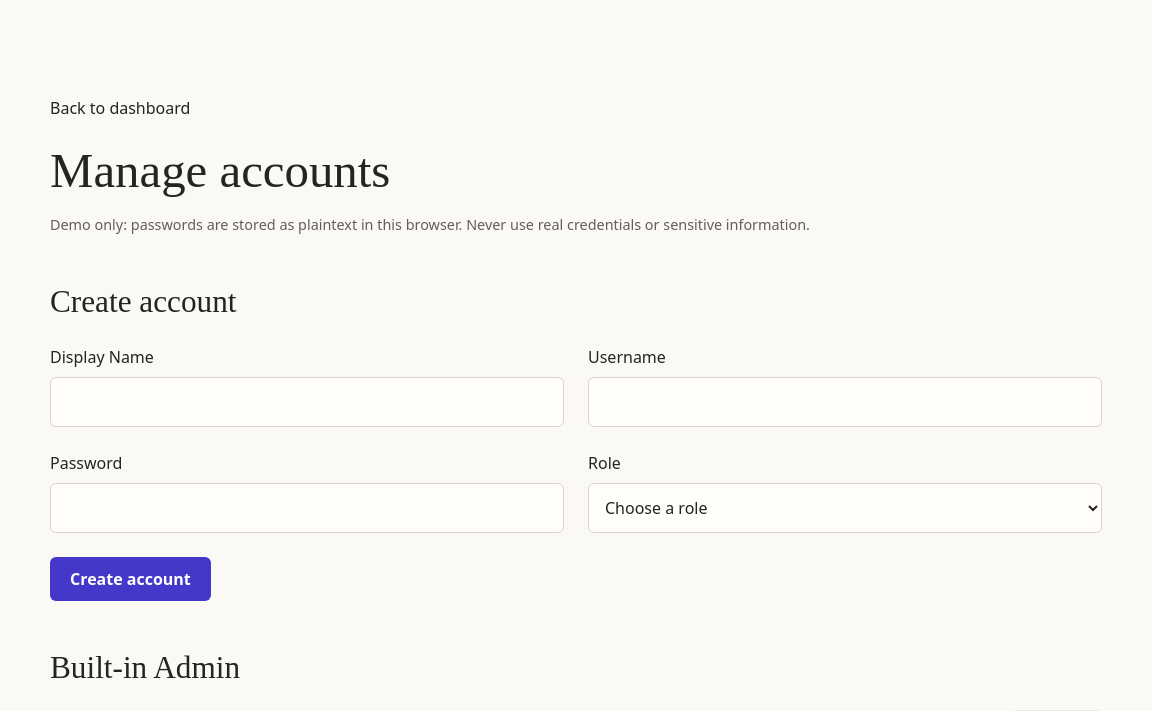
Test case: UserManagement › creates admin with exact values UUID/time, re-reading before and after saving
Type "New account" into the field labelled "Display Name".
click(307, 402); type("New account")  # box x1=50 y1=377 x2=564 y2=427
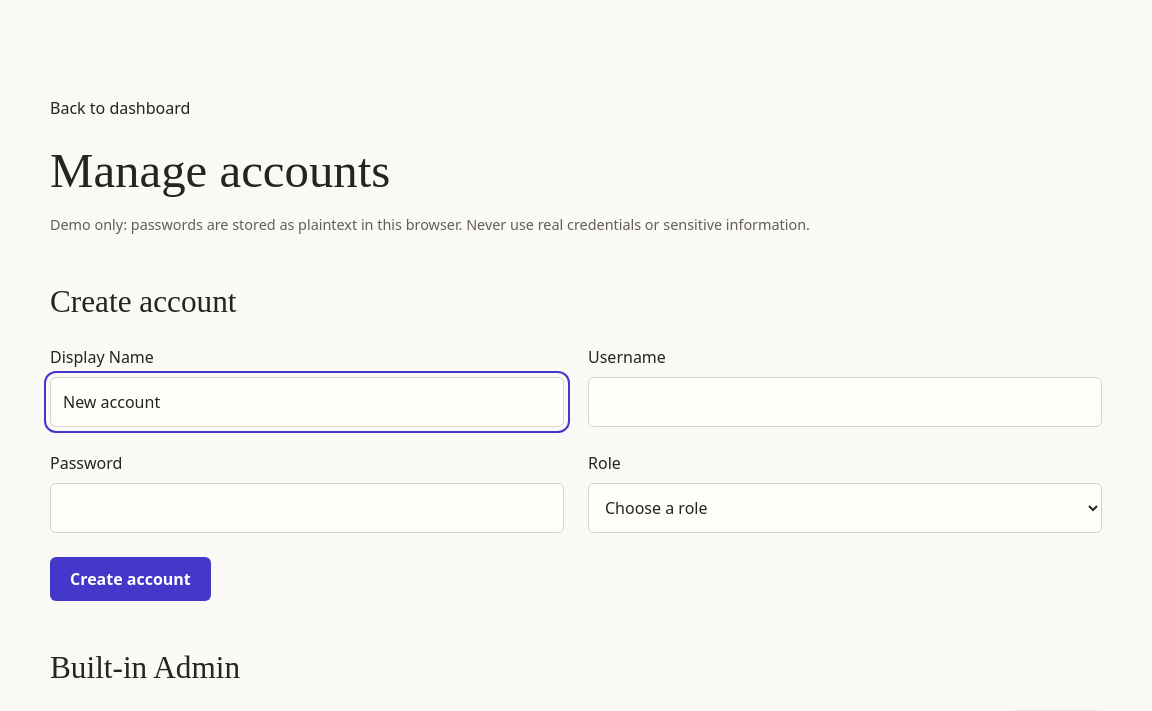
Type "new" into the field labelled "Username".
click(845, 402); type("new")  # box x1=588 y1=377 x2=1102 y2=427
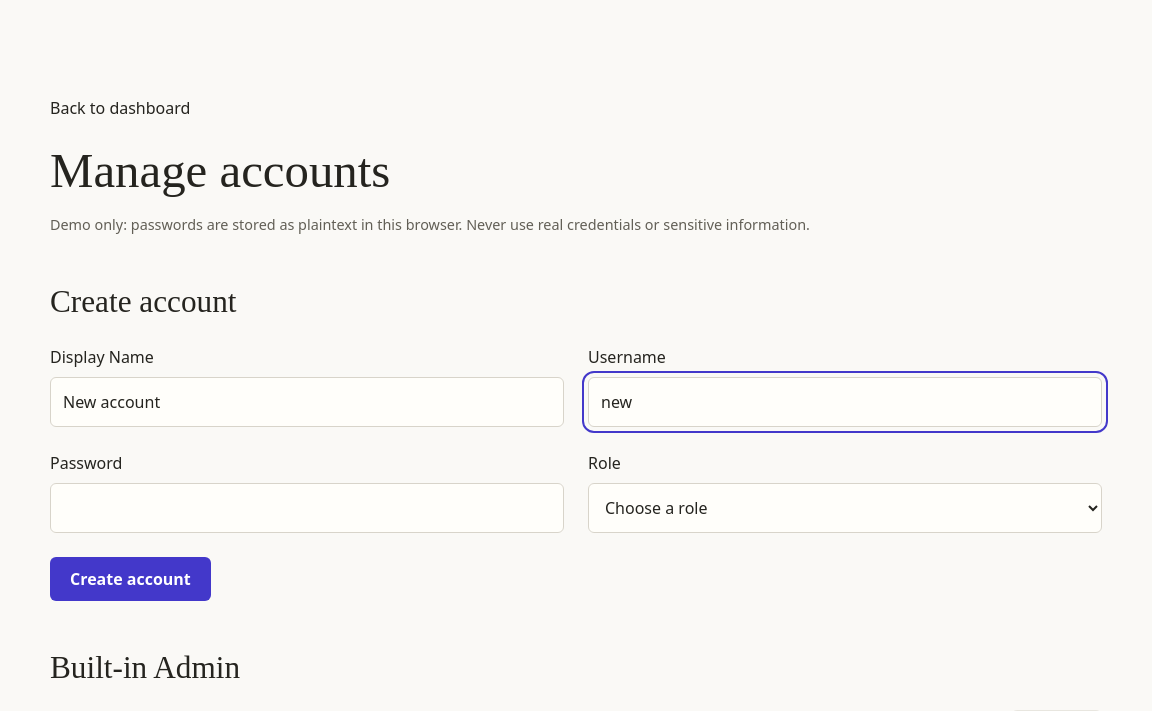
Type "demo" into the password field labelled "Password".
click(307, 508); type("demo")  # box x1=50 y1=483 x2=564 y2=533
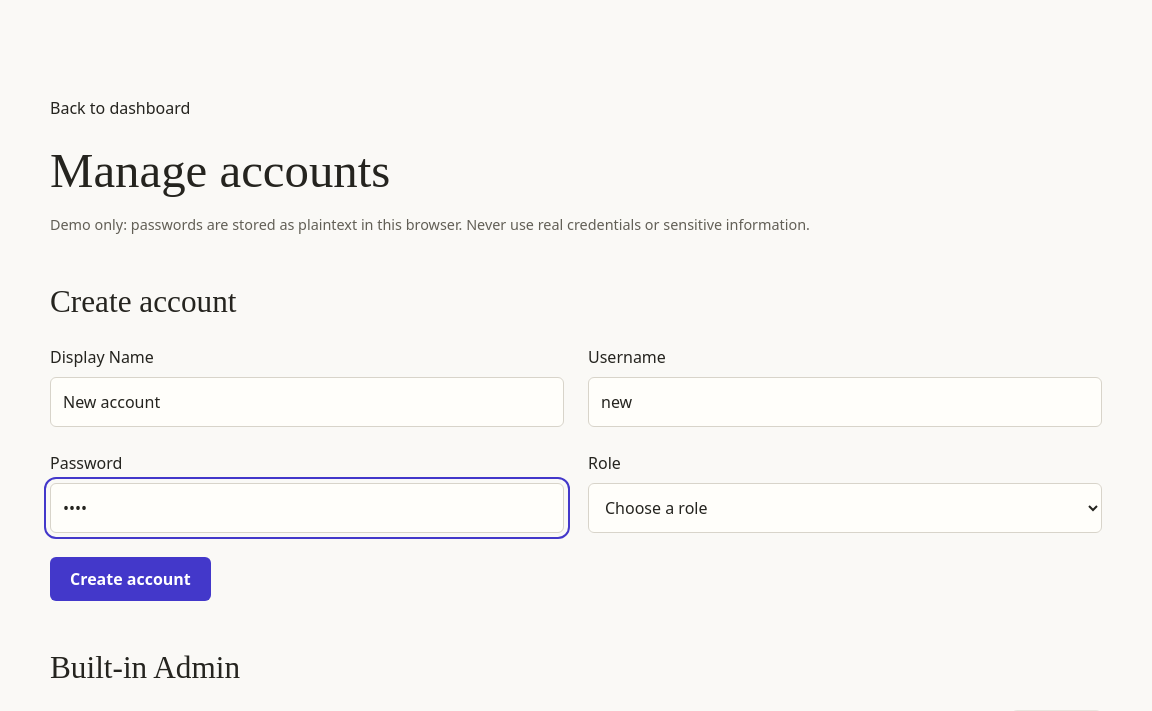
Select "Admin" in the dropdown labelled "Role" at (845, 508), box x1=588 y1=483 x2=1102 y2=533
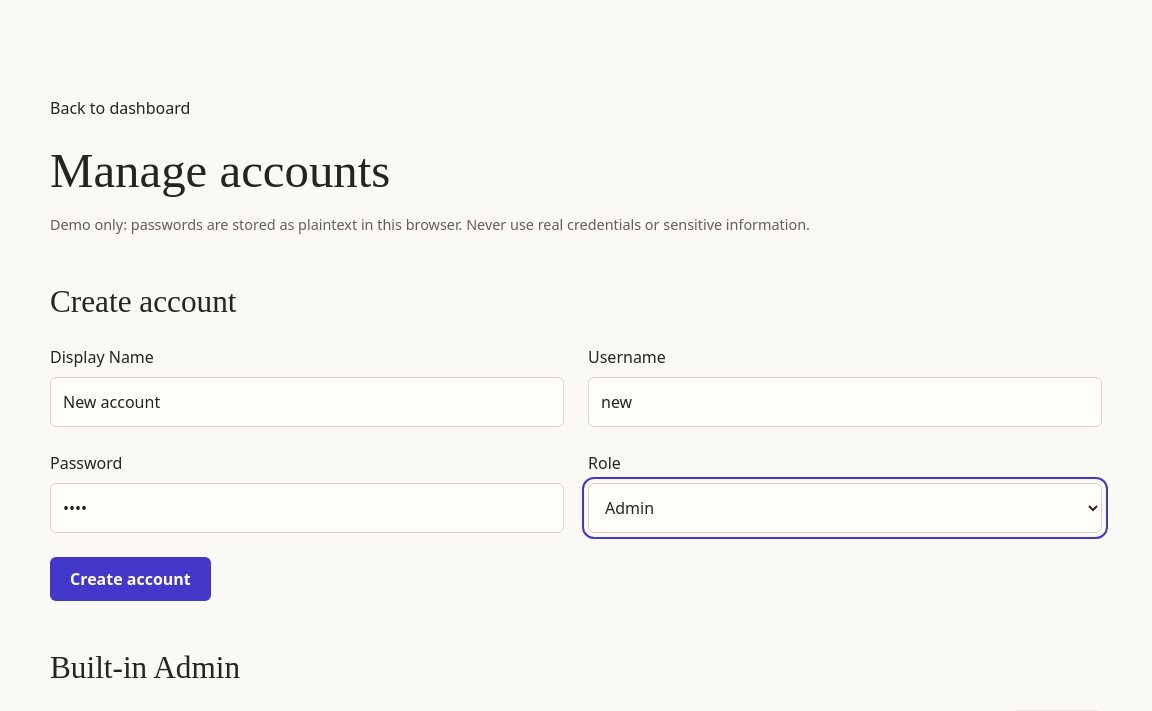
Click the button "Create account".
click(130, 579)  # box x1=50 y1=557 x2=211 y2=601
(page scrolled)
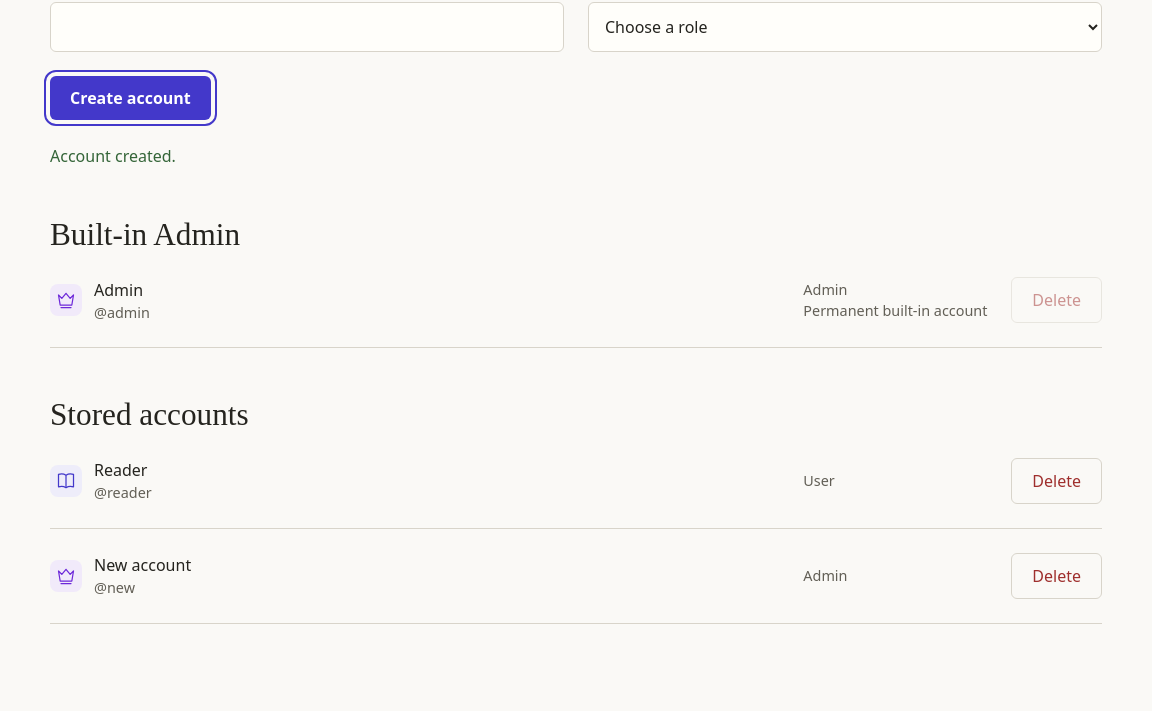
Check: the message reads "Account created.", box x1=50 y1=145 x2=176 y2=167
Check: the text "Reader" is shown, box x1=94 y1=458 x2=152 y2=482
Check: the list item with aria-label "Account new" is shown, box x1=50 y1=529 x2=1102 y2=624
